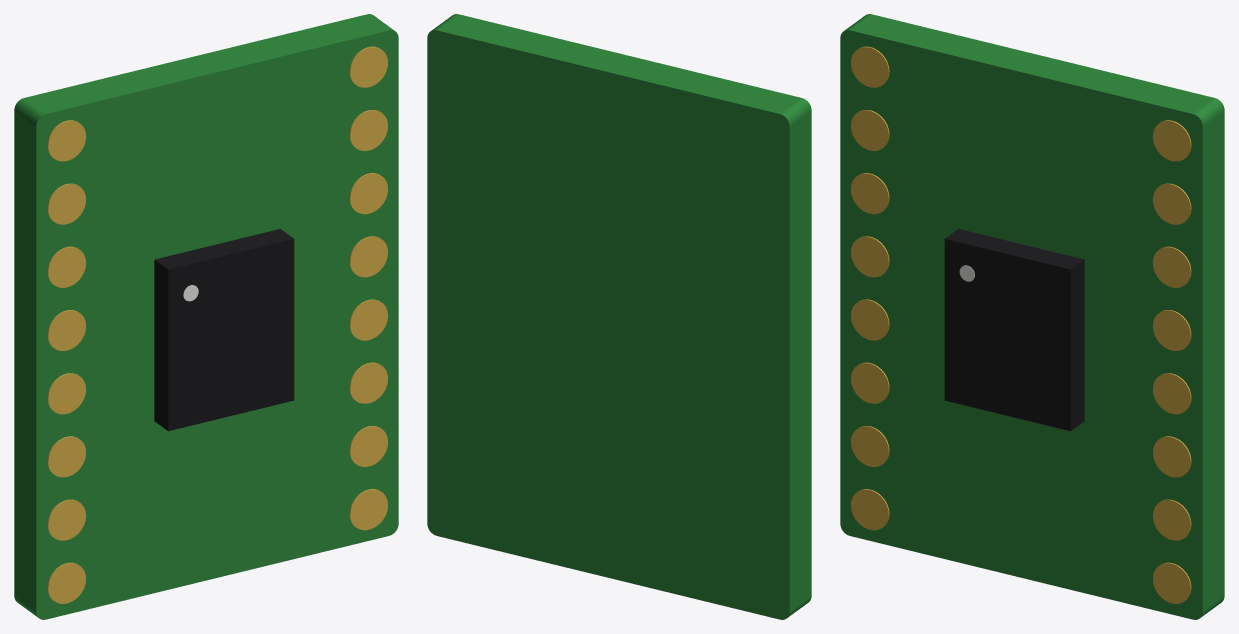
Rendered from pololu-713-tb6612fng.glb.
The picture shows the model from 3 angles, left to right: view 1: azimuth 30°, elevation 25°; view 2: azimuth 150°, elevation 25°; view 3: azimuth 330°, elevation 25°; orthographic projection.
Visible parts, largest first — view 1: board, chip_3, pads_2_5, pads_1_8, pads_2_3, pads_2_8, pads_1_3, pads_2_4, pads_1_2, pads_1_4, pads_1_7, pads_1_6 (+6 smaller); view 2: board; view 3: board, chip_3, pads_1_5, pads_1_3, pads_2_8, pads_1_8, pads_2_3, pads_1_4, pads_2_2, pads_2_4, pads_2_7, pads_2_6 (+6 smaller).
Boxes of the visible parts, x1=… form: board: x1=14, y1=14, x2=398, y2=619; chip_3: x1=154, y1=229, x2=294, y2=431; pads_2_5: x1=349, y1=236, x2=387, y2=277; pads_1_8: x1=47, y1=120, x2=86, y2=161; pads_2_3: x1=349, y1=362, x2=387, y2=403; pads_2_8: x1=349, y1=46, x2=387, y2=87; pads_1_3: x1=47, y1=436, x2=86, y2=477; pads_2_4: x1=349, y1=299, x2=387, y2=340; pads_1_2: x1=47, y1=499, x2=86, y2=540; pads_1_4: x1=47, y1=373, x2=86, y2=414; pads_1_7: x1=47, y1=183, x2=86, y2=224; pads_1_6: x1=47, y1=246, x2=85, y2=287; board: x1=427, y1=14, x2=811, y2=619; board: x1=840, y1=14, x2=1224, y2=619; chip_3: x1=944, y1=229, x2=1084, y2=431; pads_1_5: x1=851, y1=236, x2=889, y2=277; pads_1_3: x1=851, y1=362, x2=889, y2=403; pads_2_8: x1=1152, y1=120, x2=1191, y2=161; pads_1_8: x1=851, y1=46, x2=889, y2=87; pads_2_3: x1=1152, y1=436, x2=1191, y2=477; pads_1_4: x1=851, y1=299, x2=889, y2=340; pads_2_2: x1=1152, y1=499, x2=1191, y2=540; pads_2_4: x1=1152, y1=373, x2=1191, y2=414; pads_2_7: x1=1152, y1=183, x2=1191, y2=224; pads_2_6: x1=1153, y1=246, x2=1191, y2=287.
Bounding box in the file's own units: 15.24 × 20.32 × 2.62.
